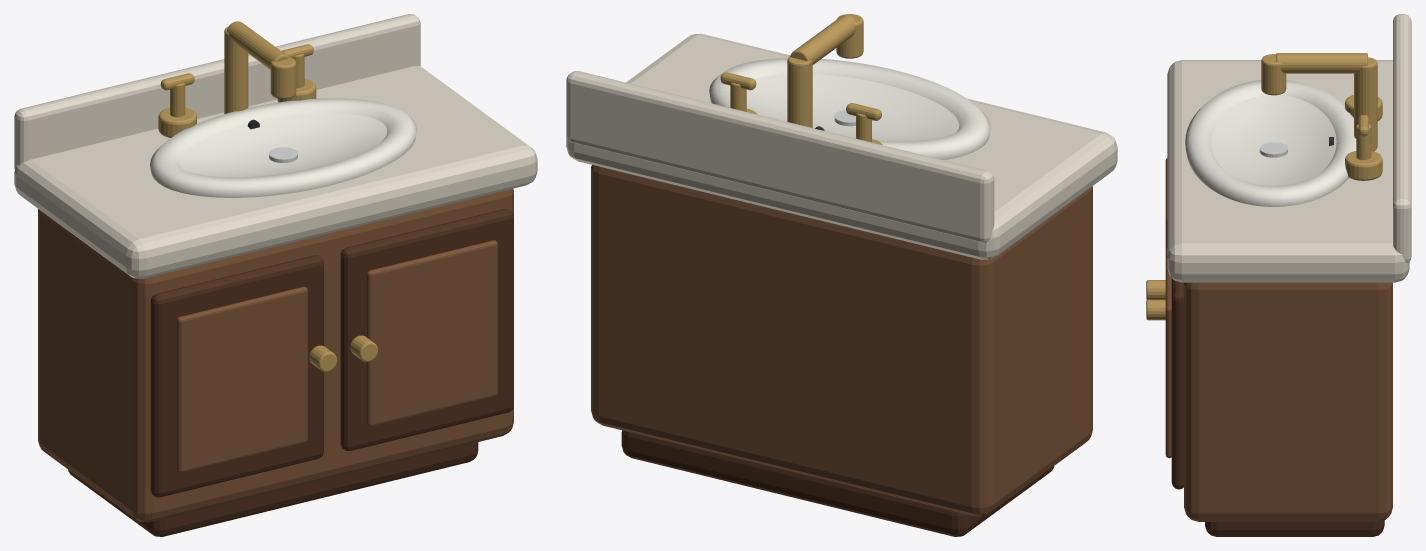
File: bathroom_vanity.glb
3 views of the same model, side by side, from view 1: azimuth 30°, elevation 25°; view 2: azimuth 150°, elevation 25°; view 3: azimuth 270°, elevation 25° (orthographic). The views are drawn at different scales.
Parts seen in each view (by area): view 1: ClassicHotelVanityRefinedBasin; view 2: ClassicHotelVanityRefinedBasin; view 3: ClassicHotelVanityRefinedBasin.
Boxes of the visible parts, <box> form: ClassicHotelVanityRefinedBasin: <box>14,14,537,536</box>; ClassicHotelVanityRefinedBasin: <box>566,14,1117,536</box>; ClassicHotelVanityRefinedBasin: <box>1146,14,1411,536</box>.
Bounding box in the file's own units: 1.1 × 1.08 × 0.6345.
